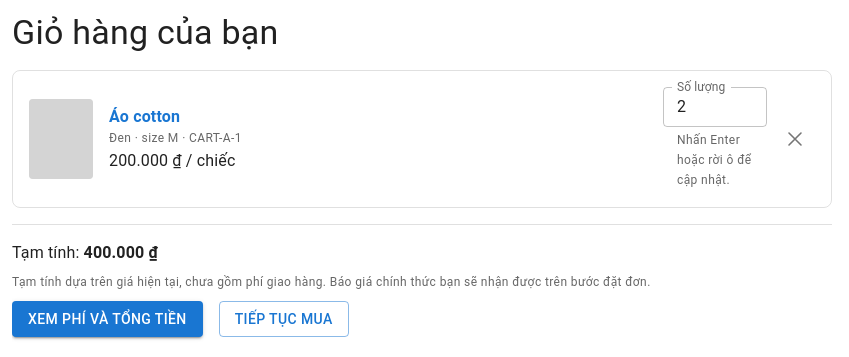
cart page › removes a row explicitly and reaches the empty state after the last removal
Check: the link "Áo cotton" is shown, box [109,107,180,126]
Click the button named "Xóa Áo cotton khỏi giỏ": (795, 139) [775,119,815,159]
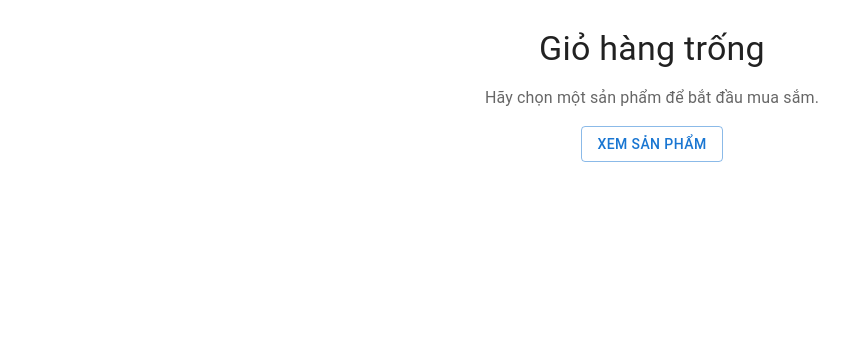
Check: the heading "Giỏ hàng trống" is shown, box [539,28,765,68]
